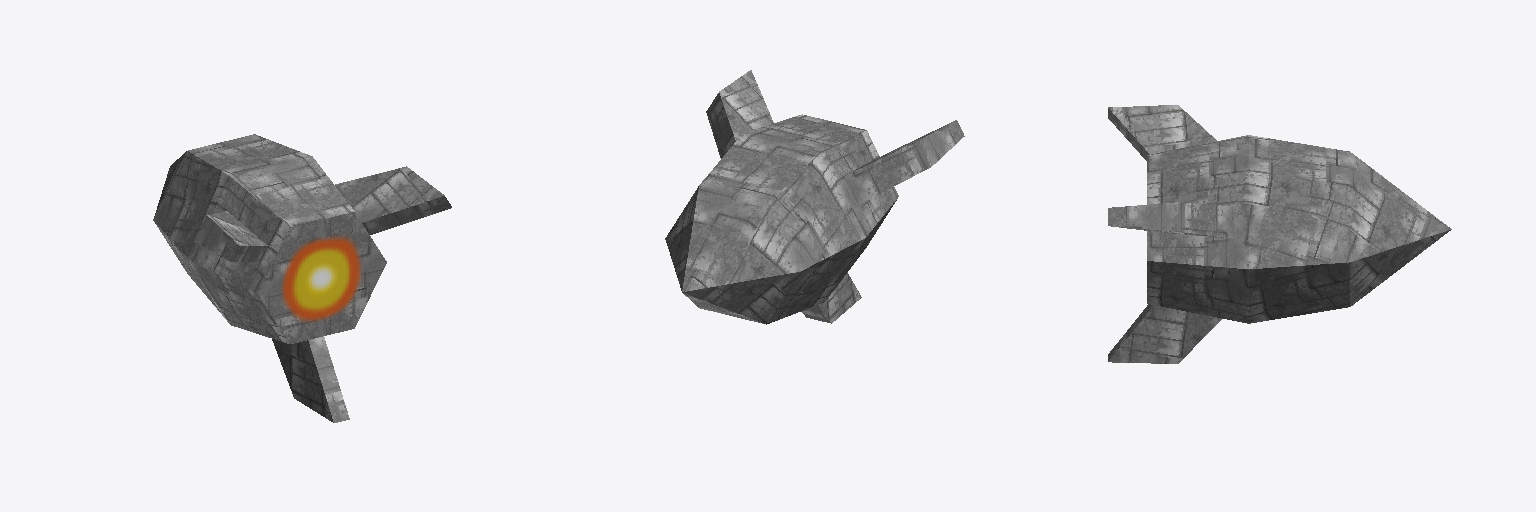
The picture shows the model from 3 angles: view 1: azimuth 30°, elevation 25°; view 2: azimuth 150°, elevation 25°; view 3: azimuth 270°, elevation 25°; orthographic projection.
Visible parts, largest first — view 1: rocket_fat; view 2: rocket_fat; view 3: rocket_fat.
Boxes of the visible parts, <box> form: rocket_fat: <box>153,134,451,422</box>; rocket_fat: <box>665,70,964,324</box>; rocket_fat: <box>1108,105,1451,363</box>.
Bounding box in the file's own units: 1.54 × 1.33 × 2.03.
1 materials, 1 textured.